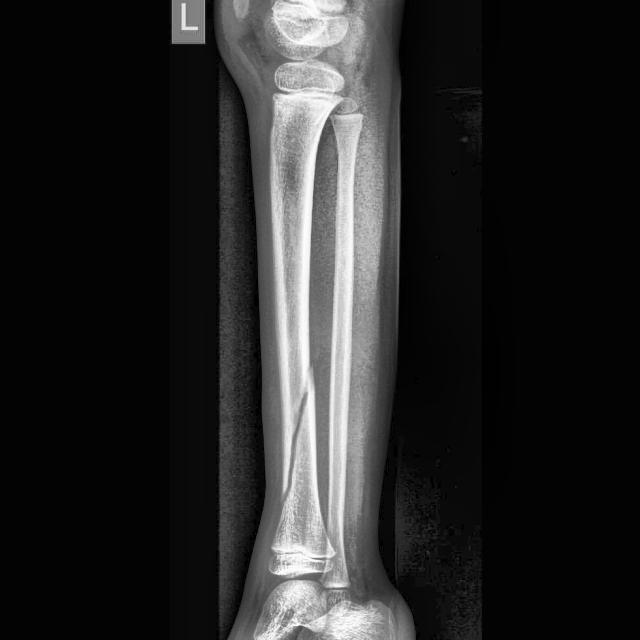fracture: (280, 366, 314, 512)
